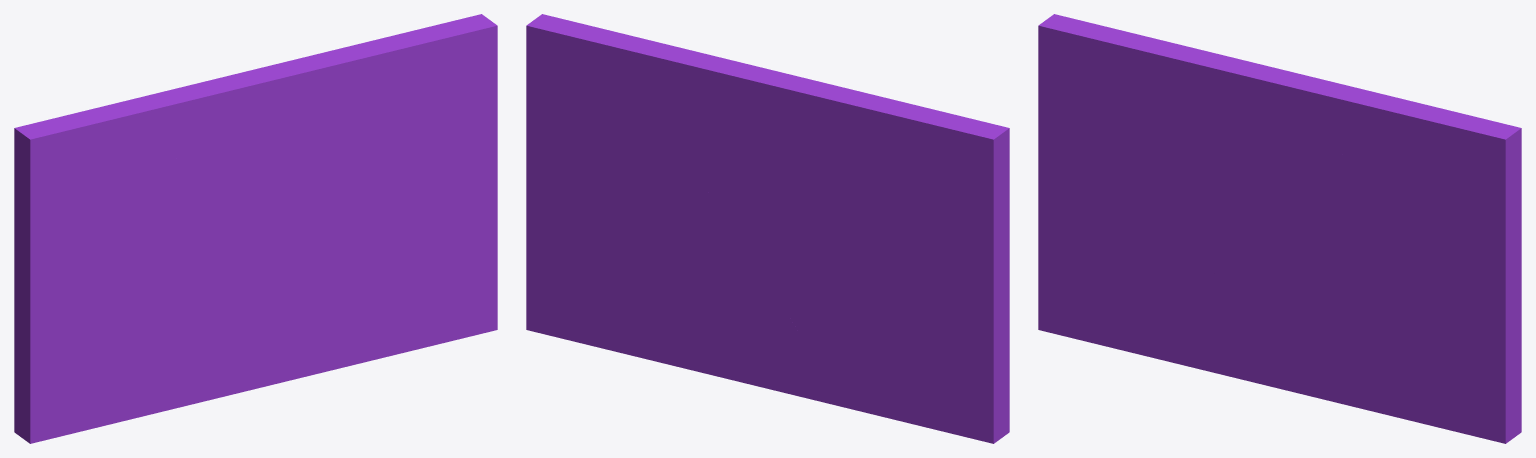
Rendered from Barrier_62_chunks.fbx.
3 renders of one model, left to right at view 1: azimuth 30°, elevation 25°; view 2: azimuth 150°, elevation 25°; view 3: azimuth 330°, elevation 25°, orthographic.
Visible parts, largest first — view 1: Barrier_62_0, Barrier_62_2, Barrier_62_6, Barrier_62_1, Barrier_62_4, Barrier_62_5, Barrier_62_3; view 2: Barrier_62_0, Barrier_62_2, Barrier_62_6, Barrier_62_4, Barrier_62_3, Barrier_62_1, Barrier_62_5; view 3: Barrier_62_0, Barrier_62_2, Barrier_62_6, Barrier_62_1, Barrier_62_4, Barrier_62_5, Barrier_62_3.
Boxes of the visible parts, left/top/right/bottom form: Barrier_62_0: left=14, top=98, right=247, bottom=443; Barrier_62_2: left=289, top=97, right=497, bottom=370; Barrier_62_6: left=132, top=69, right=335, bottom=229; Barrier_62_1: left=139, top=228, right=331, bottom=417; Barrier_62_4: left=334, top=14, right=497, bottom=173; Barrier_62_5: left=248, top=147, right=376, bottom=230; Barrier_62_3: left=254, top=38, right=382, bottom=100; Barrier_62_0: left=759, top=103, right=1009, bottom=443; Barrier_62_2: left=526, top=77, right=771, bottom=382; Barrier_62_6: left=713, top=58, right=906, bottom=206; Barrier_62_4: left=526, top=14, right=683, bottom=151; Barrier_62_3: left=625, top=48, right=754, bottom=145; Barrier_62_1: left=742, top=287, right=841, bottom=406; Barrier_62_5: left=644, top=136, right=775, bottom=223; Barrier_62_0: left=1038, top=14, right=1255, bottom=356; Barrier_62_2: left=1297, top=180, right=1521, bottom=443; Barrier_62_6: left=1140, top=43, right=1343, bottom=222; Barrier_62_1: left=1147, top=222, right=1339, bottom=403; Barrier_62_4: left=1342, top=104, right=1521, bottom=228; Barrier_62_5: left=1256, top=182, right=1384, bottom=240; Barrier_62_3: left=1293, top=72, right=1421, bottom=135.
Bounding box in the file's own units: 462 × 288 × 27.2.
